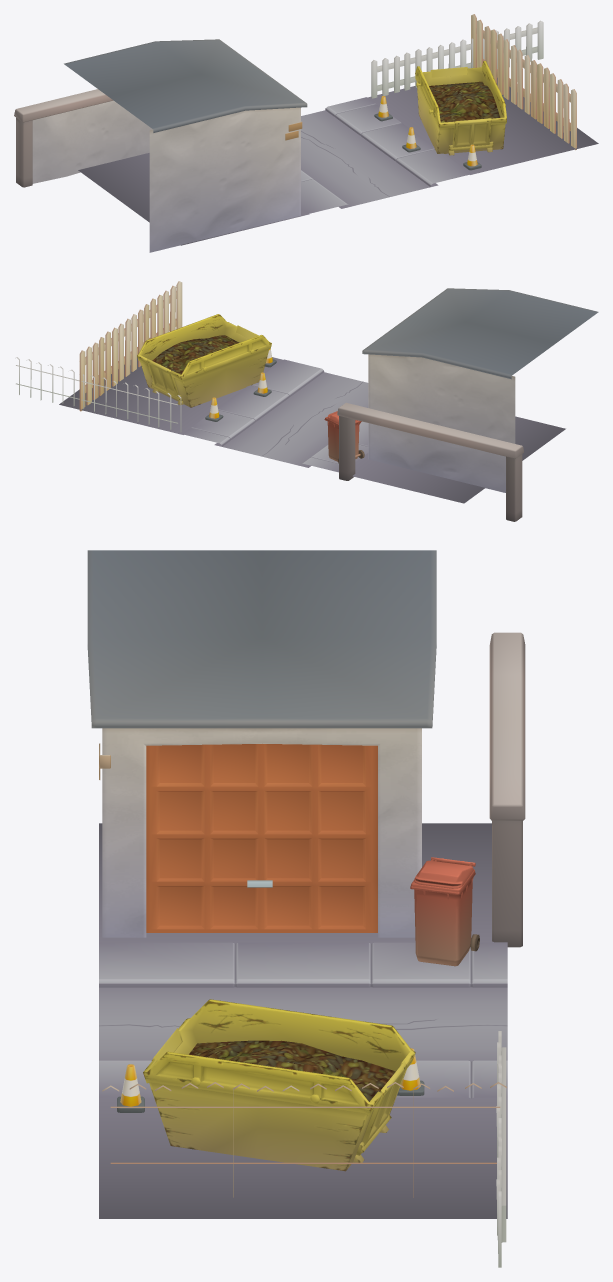
The model's file is SuburbsGarage01.prefab.glb.
The picture shows the model from 3 angles, top to bottom: view 1: azimuth 30°, elevation 25°; view 2: azimuth 150°, elevation 25°; view 3: azimuth 270°, elevation 25°; orthographic projection. The views are drawn at different scales.
Parts seen in each view (by area): view 1: Garage01, SuburbsGarage01, PlassteredWall01, SkipYellow, WoodFence01 (1), WoodFence02; view 2: Garage01, SuburbsGarage01, SkipYellow, WoodFence01 (1), PlassteredWall01, WoodFence02, WheelyBinRed; view 3: Garage01, SuburbsGarage01, SkipYellow, PlassteredWall01, WheelyBinRed, WoodFence01 (1), WoodFence02.
Part boxes in pixels (x1,y1,x2,y2): Garage01: (64, 39, 307, 252); SuburbsGarage01: (78, 77, 598, 245); PlassteredWall01: (14, 89, 152, 187); SkipYellow: (415, 60, 506, 155); WoodFence01 (1): (471, 14, 576, 150); WoodFence02: (371, 20, 543, 98); Garage01: (362, 288, 598, 492); SuburbsGarage01: (59, 357, 565, 503); SkipYellow: (137, 314, 271, 407); WoodFence01 (1): (79, 281, 182, 411); PlassteredWall01: (337, 402, 523, 521); WoodFence02: (15, 357, 181, 432); WheelyBinRed: (324, 411, 364, 463); Garage01: (87, 550, 436, 937); SuburbsGarage01: (99, 823, 507, 1218); SkipYellow: (143, 999, 415, 1171); PlassteredWall01: (489, 632, 525, 947); WheelyBinRed: (410, 857, 479, 966); WoodFence01 (1): (102, 1082, 506, 1197); WoodFence02: (496, 1031, 506, 1267).
Size of the model in its own units: 25.83 by 6.1 by 9.65.
5 materials, 4 textured.
